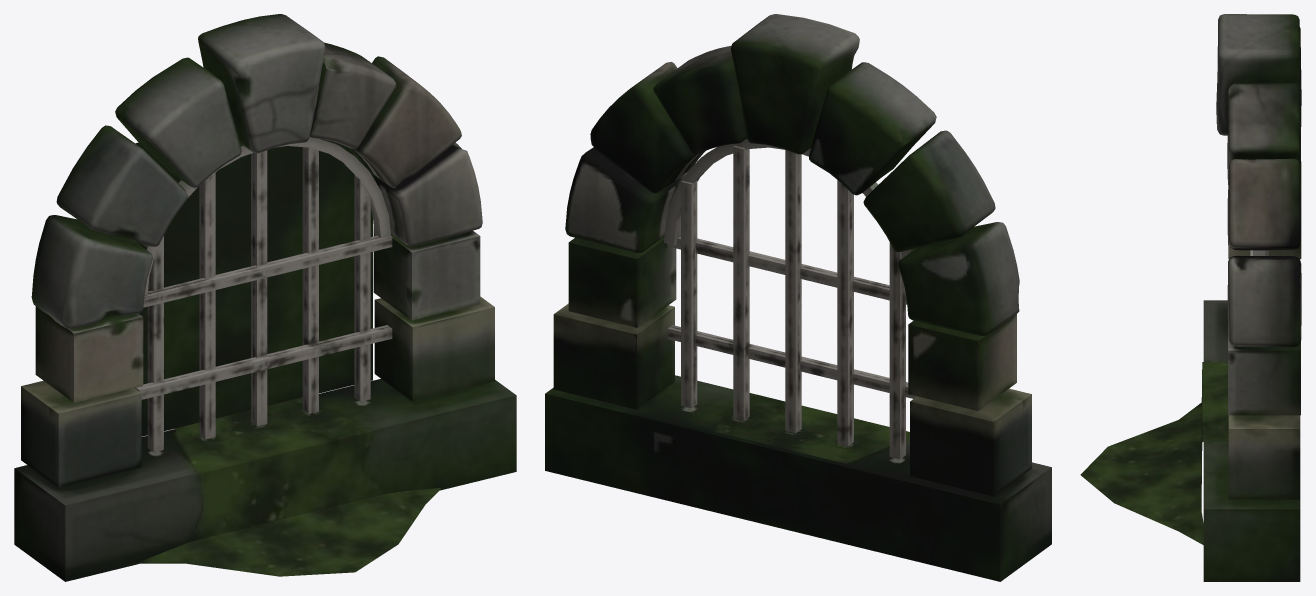
The model's file is sunken_grate.glb.
The picture shows the model from 3 angles, left to right: view 1: azimuth 30°, elevation 25°; view 2: azimuth 150°, elevation 25°; view 3: azimuth 270°, elevation 25°; orthographic projection. The views are drawn at different scales.
Parts seen in each view (by area): view 1: sunken_grate; view 2: sunken_grate; view 3: sunken_grate.
Part boxes in pixels (x1,y1,x2,y2): sunken_grate: (14, 14, 516, 581); sunken_grate: (545, 14, 1051, 581); sunken_grate: (1080, 14, 1301, 581).
Bounding box in the file's own units: 1.44 × 1.44 × 0.645.
1 material, 1 textured.
